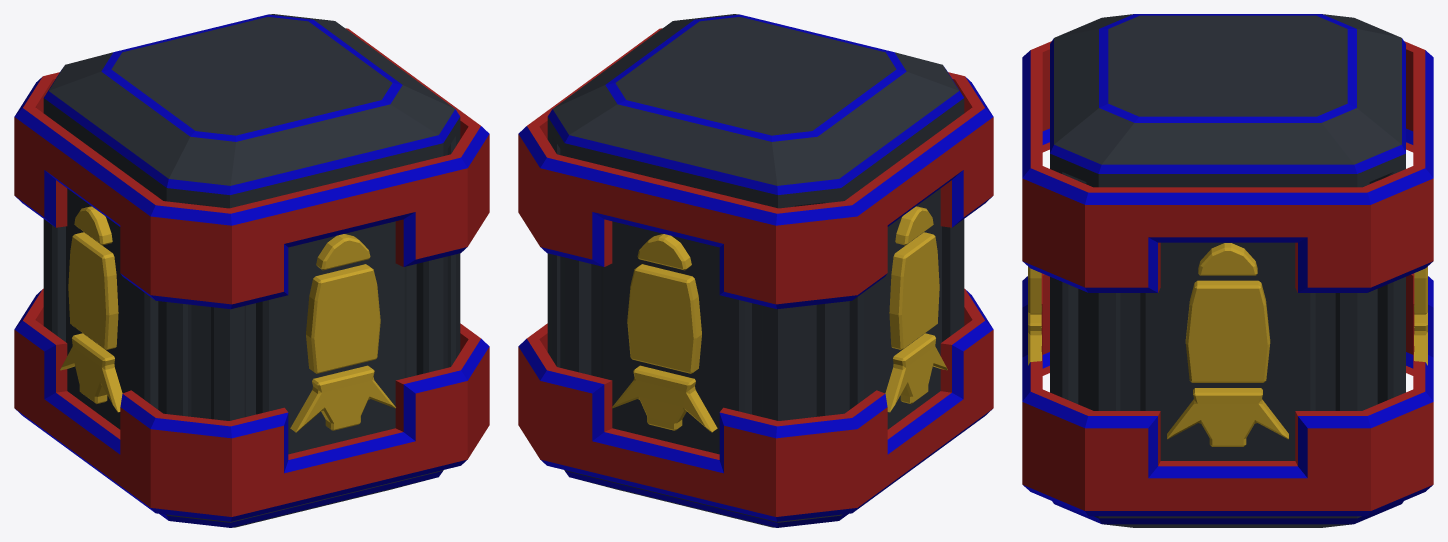
File: AirDrop_Missile.fbx
The picture shows the model from 3 angles, left to right: view 1: azimuth 30°, elevation 25°; view 2: azimuth 150°, elevation 25°; view 3: azimuth 270°, elevation 25°; orthographic projection. The views are drawn at different scales.
Parts seen in each view (by area): view 1: Cube; view 2: Cube; view 3: Cube.
Boxes of the visible parts, x1,y1,x2,y2 form: Cube: (14,14,489,527); Cube: (518,14,993,527); Cube: (1022,14,1433,527).
Size of the model in its own units: 859 by 943 by 859.
